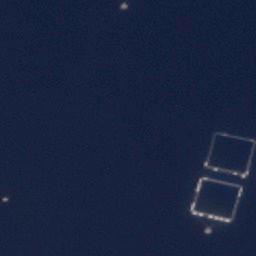square_solid: (189, 176, 246, 225), (203, 130, 256, 181)
